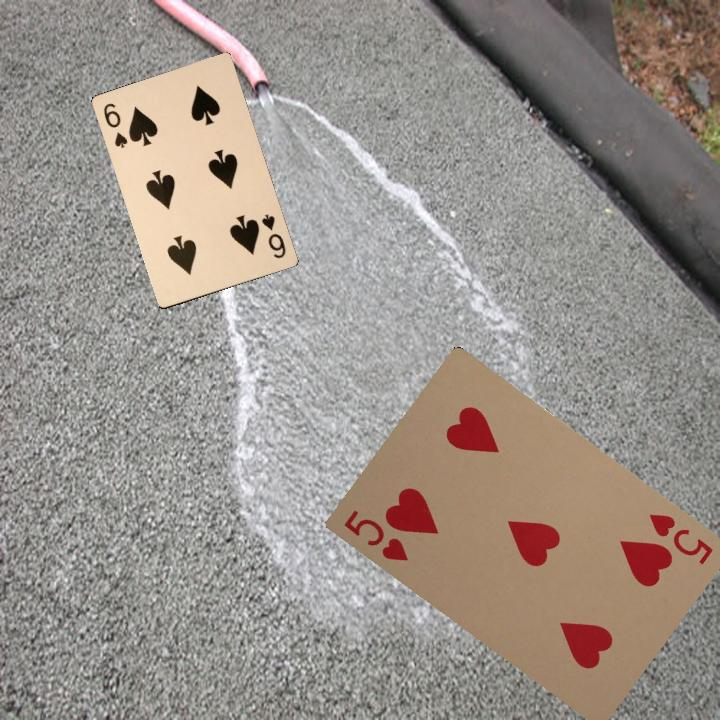5h: (644, 509, 716, 568), (339, 506, 411, 564)
6s: (99, 99, 130, 151), (257, 210, 288, 261)
